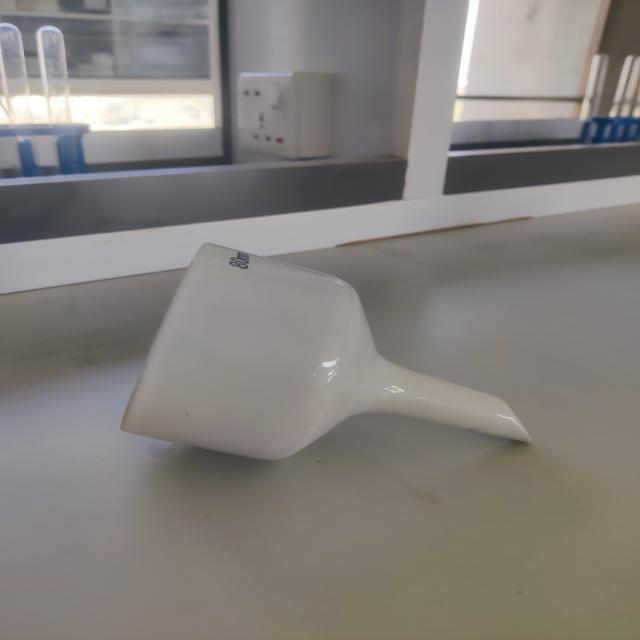Buchner_Funnel: (94, 213, 558, 498)
